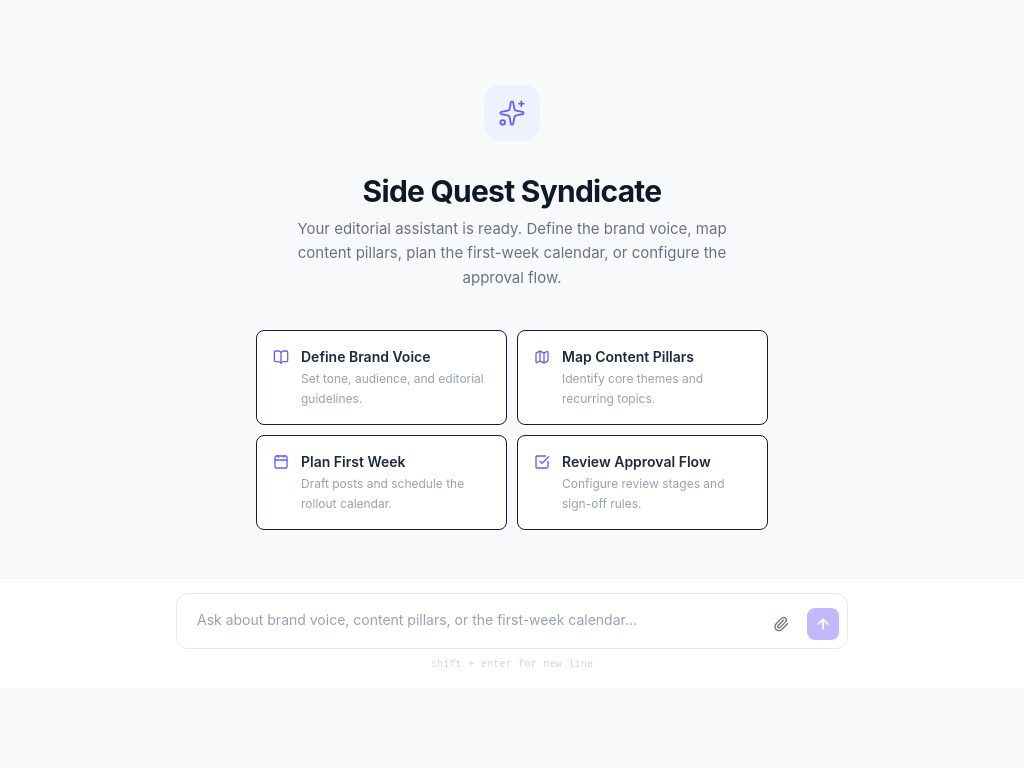
it: Homepage Chat UI › renders the error state upon "throw error" prompt
Replace the text in the text box named "Type a message" with "throw error". click: (470, 621)
box: [185, 602, 755, 640]
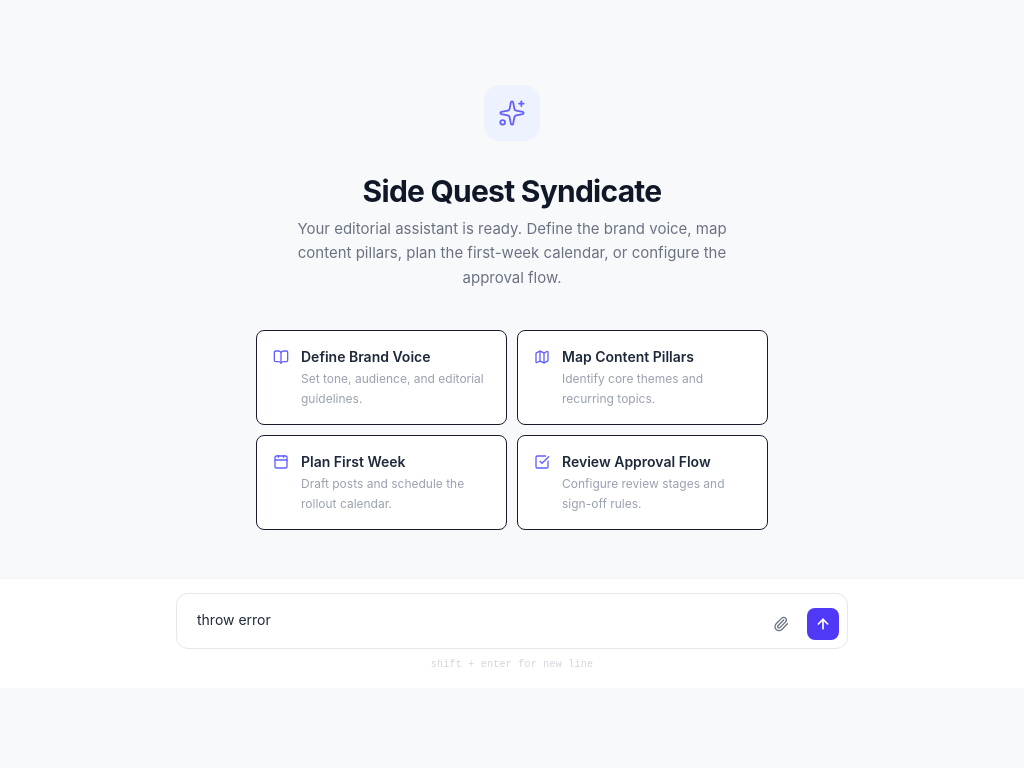
Click the button named "Send message". click: (823, 624)
box: [807, 608, 839, 640]
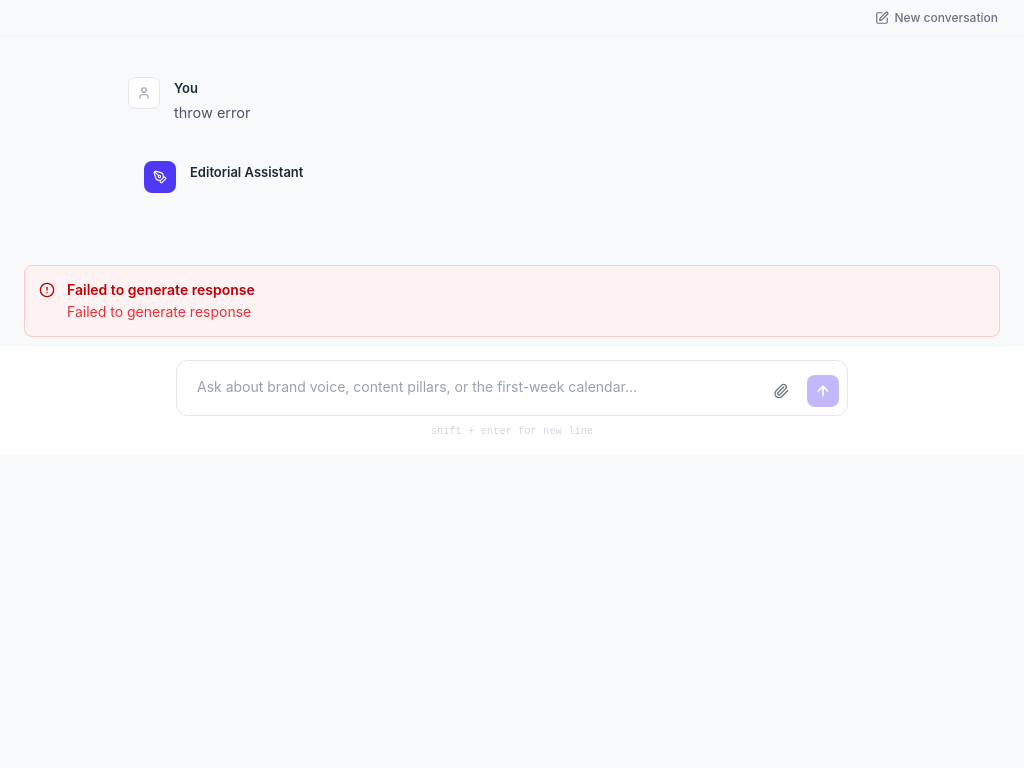
Expected: the text box named "Type a message" is enabled, [185, 369, 755, 407]
Result: the heading "Failed to generate response" is shown at [67, 281, 255, 298]
